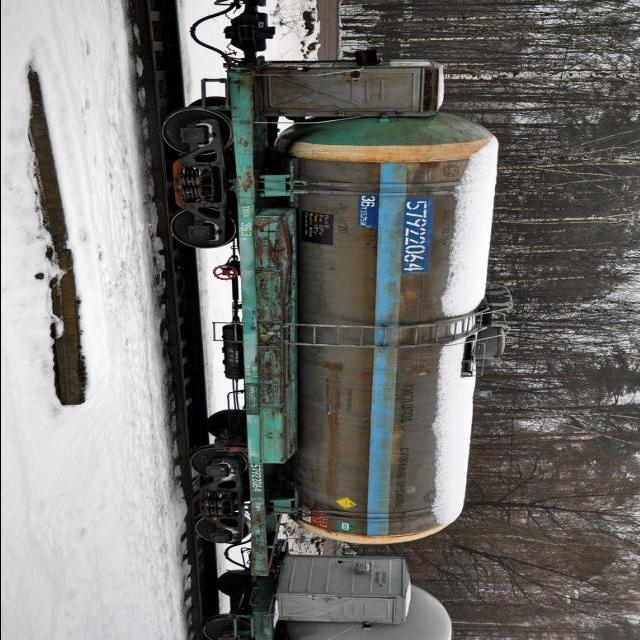wagon: (400, 198, 431, 274)
